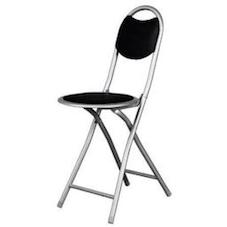chair: (50, 4, 183, 225)
